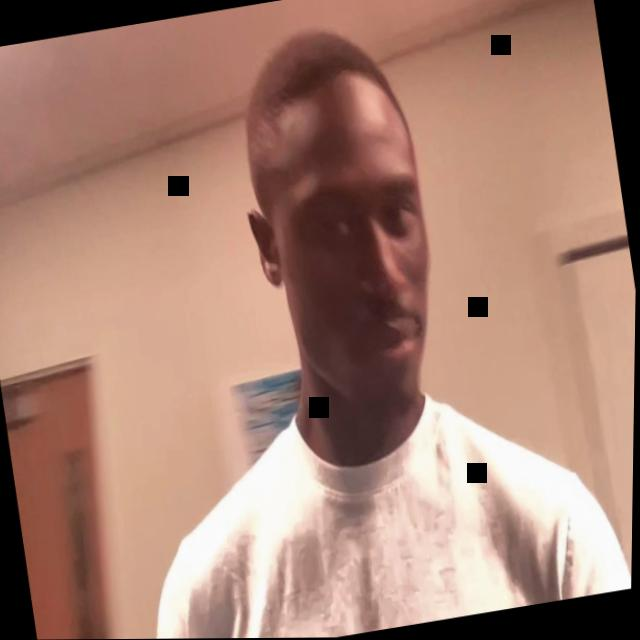NO-Mask: (240, 72, 458, 429)
